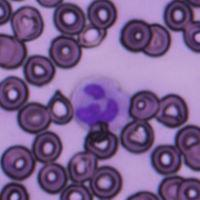N: (69, 75, 131, 129)
